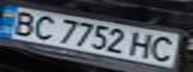2: (106, 26, 130, 55)
5: (90, 22, 112, 52)
7: (51, 17, 78, 46), (72, 20, 93, 48)
B: (3, 8, 42, 36)
C: (145, 34, 184, 63), (27, 12, 60, 41)
H: (127, 29, 160, 60)
